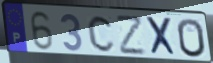3: (59, 12, 84, 53)
6: (30, 9, 55, 52)
C: (87, 14, 117, 54)
O: (176, 17, 207, 59)
X: (144, 16, 179, 58)
Z: (115, 15, 147, 56)
